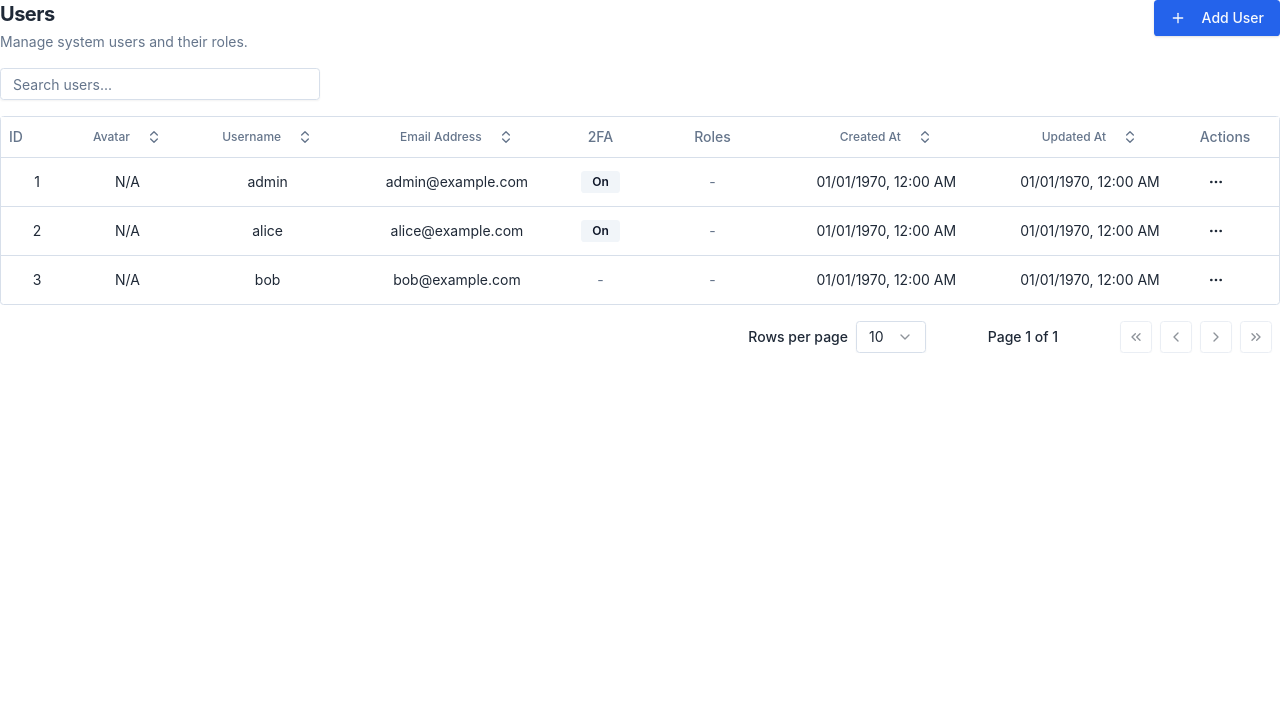
it: Users – reset 2FA › resets 2FA and refreshes the list
Expected: the cell "alice" is shown, [182, 206, 353, 255]
Step 1. Click the button named "open menu" in the row of "alice@example.com" → (1216,230), box [1200, 214, 1232, 246]
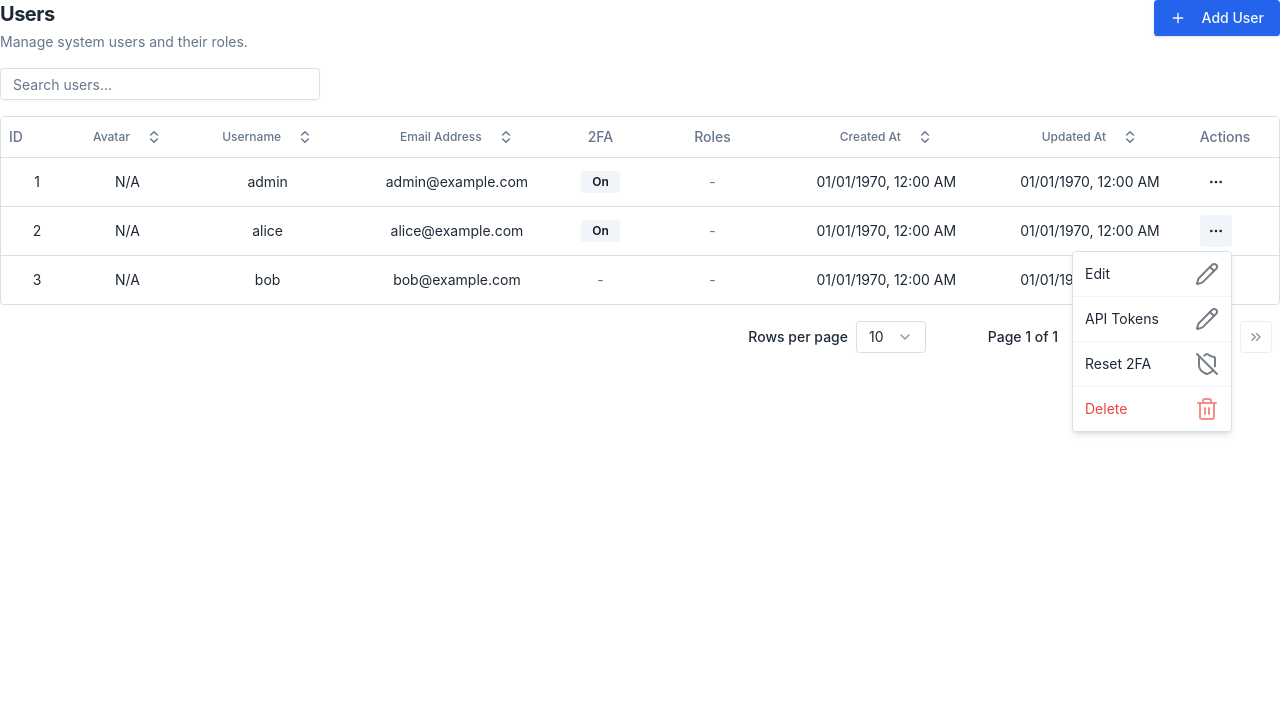
Step 2. Click the menu item "Reset 2FA" → (1152,364), box [1077, 346, 1227, 382]
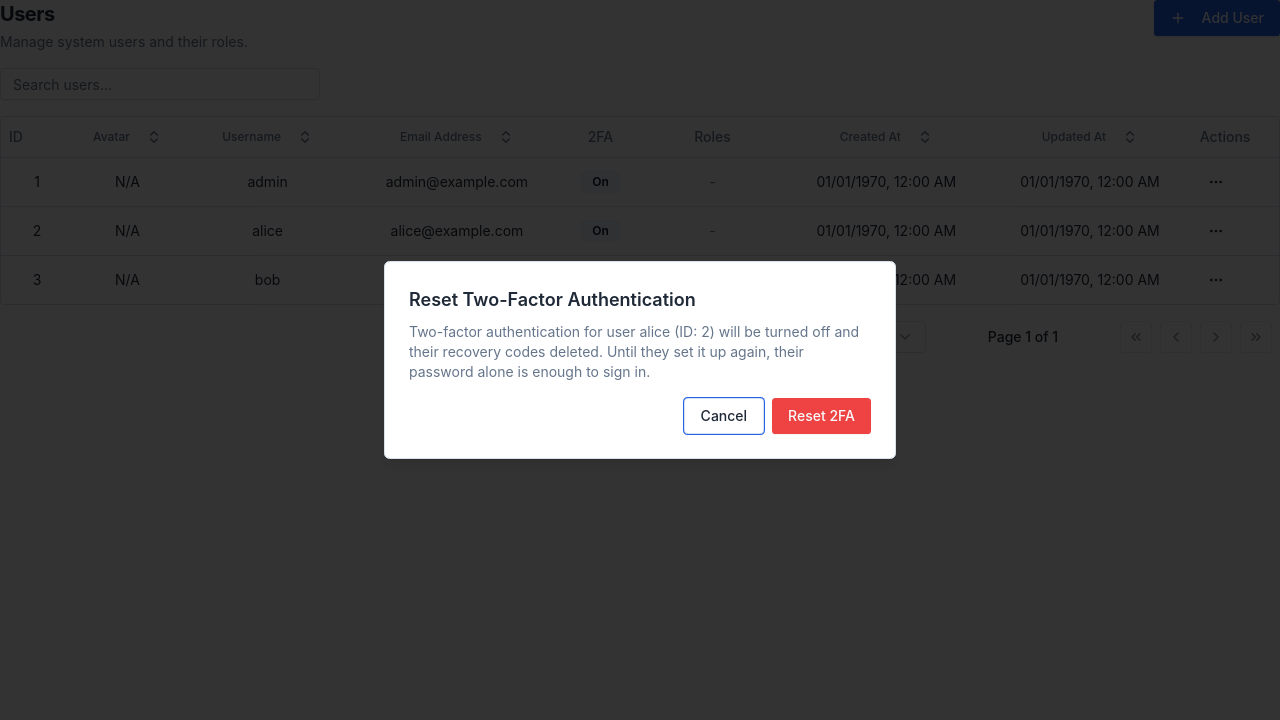
Result: the text "user alice (ID: 2)" is shown at [409, 323, 859, 380]
Step 3. Click the button "Reset 2FA" → (822,416), box [772, 398, 871, 434]
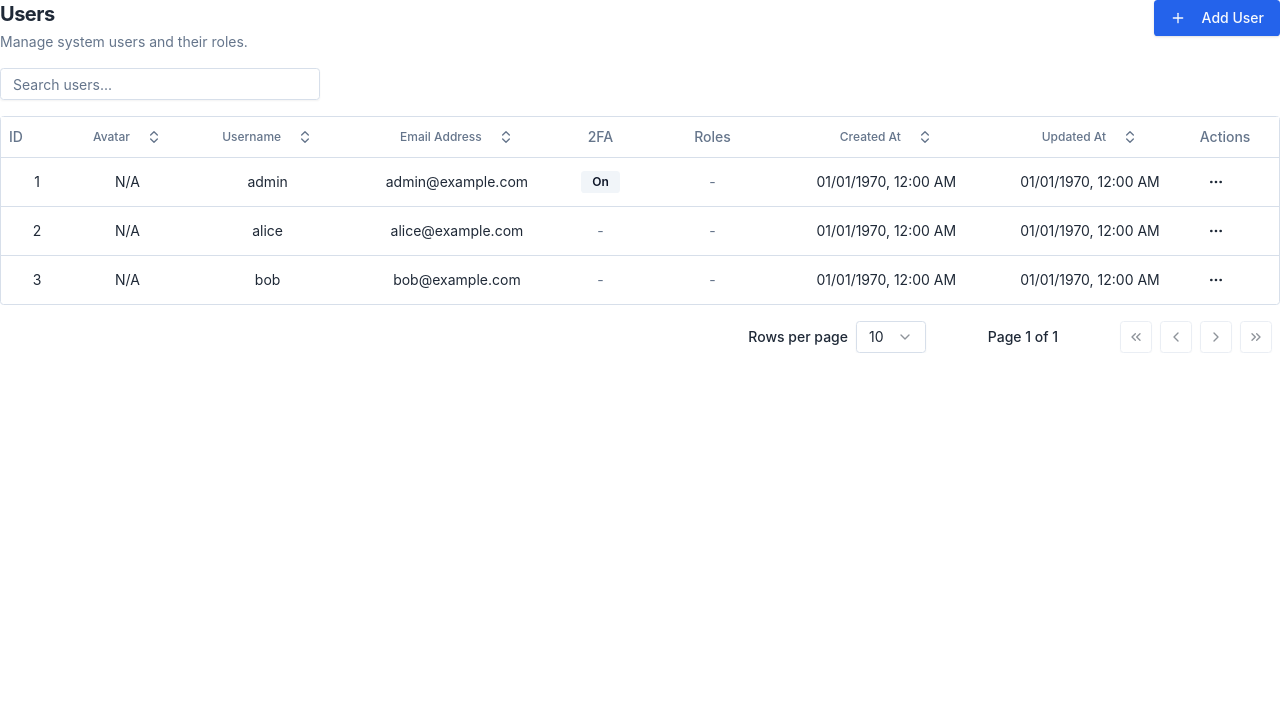
Result: the dialog is gone
